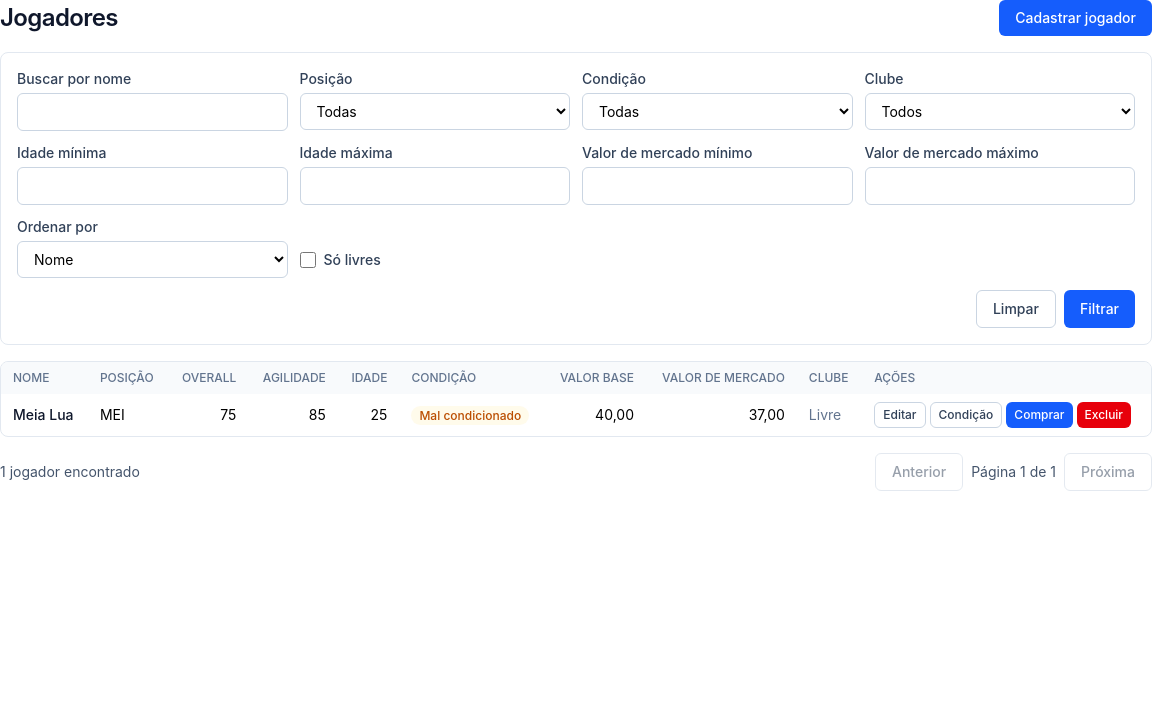
Test case: Compra de jogador livre › mostra o message da API quando a compra é recusada
Click the button "Comprar".
click(1039, 415)  # box [1006, 402, 1072, 428]
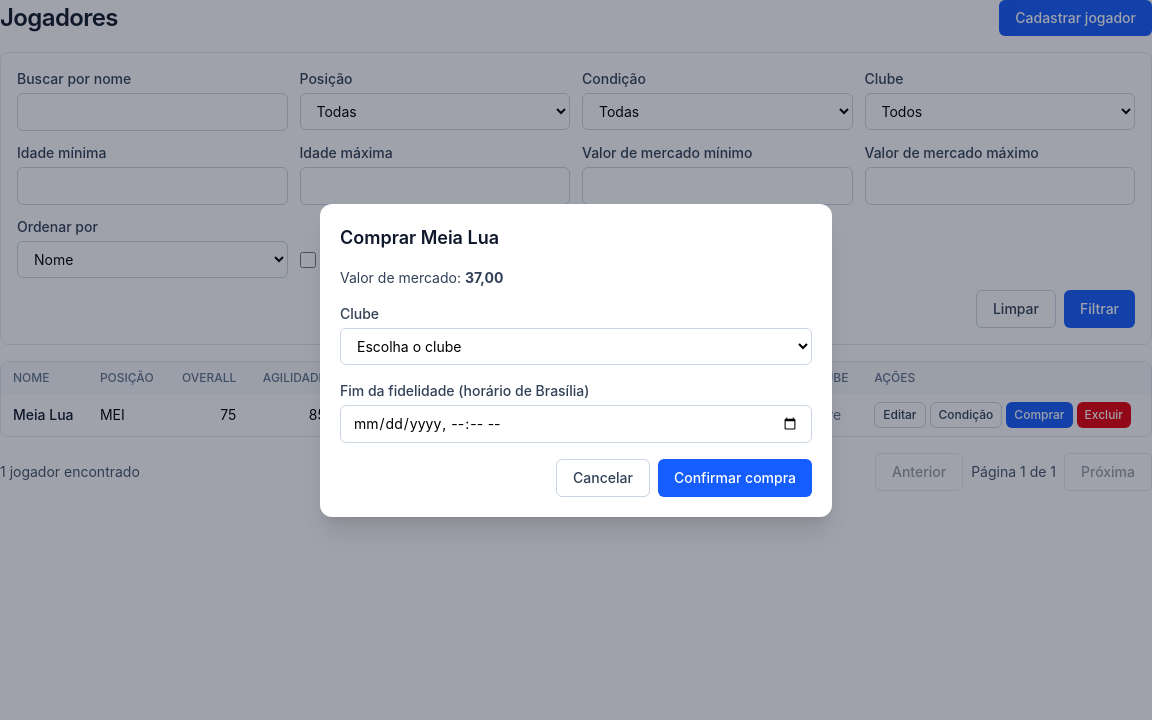
Select "AGU – Águias FC (caixa 300,00)" in the dropdown labelled "Clube" at (576, 346), box [340, 328, 812, 364]
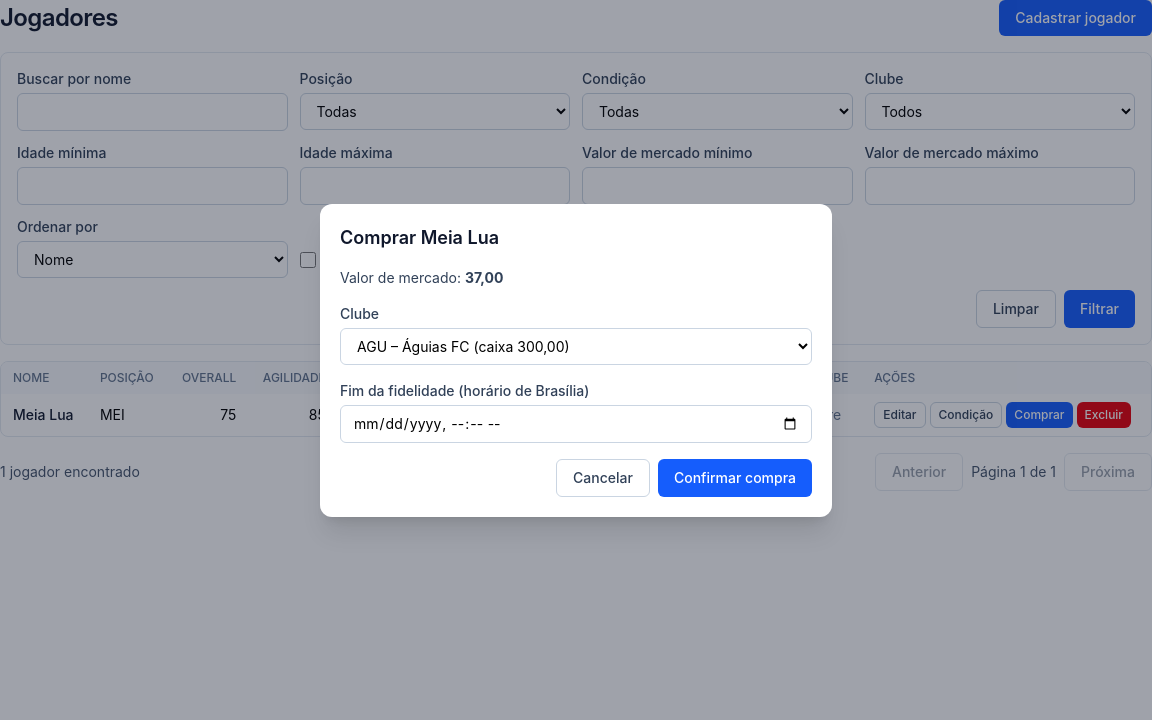
Type "2027-03-02T10:15" into the field labelled "Fim da fidelidade (horário de Brasília)".
click(576, 424); type("2027-03-02T10:15")  # box [340, 404, 812, 442]
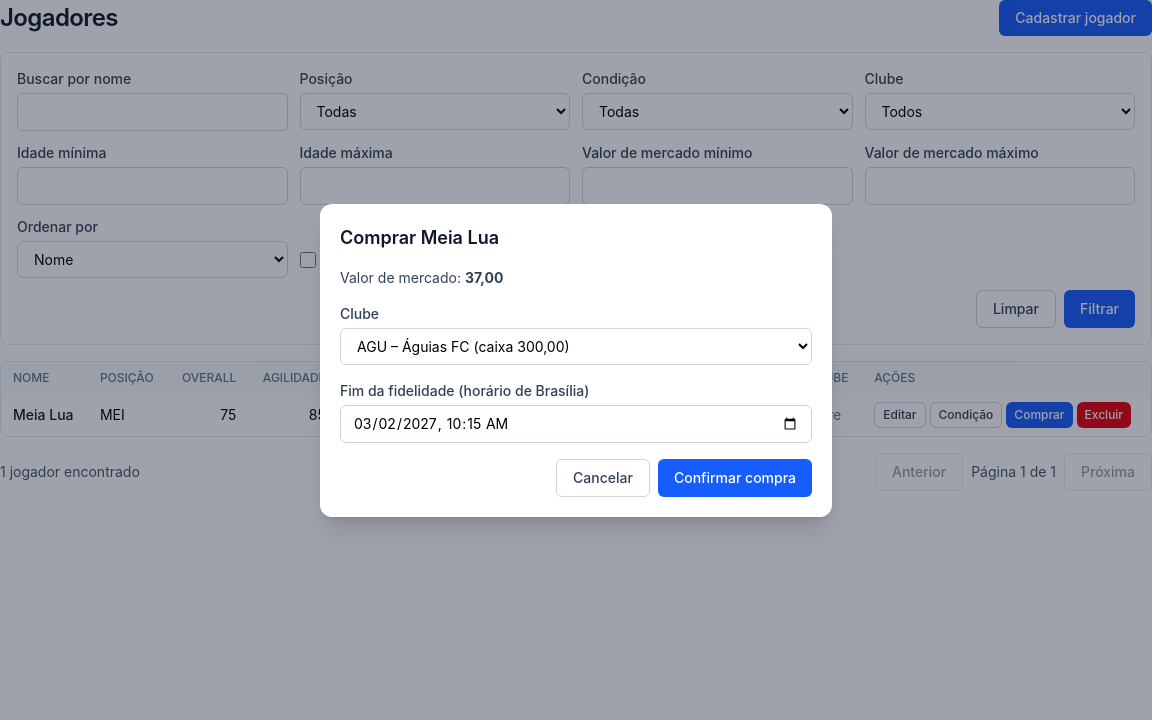
Click the button "Confirmar compra".
click(735, 478)  # box [658, 458, 812, 496]
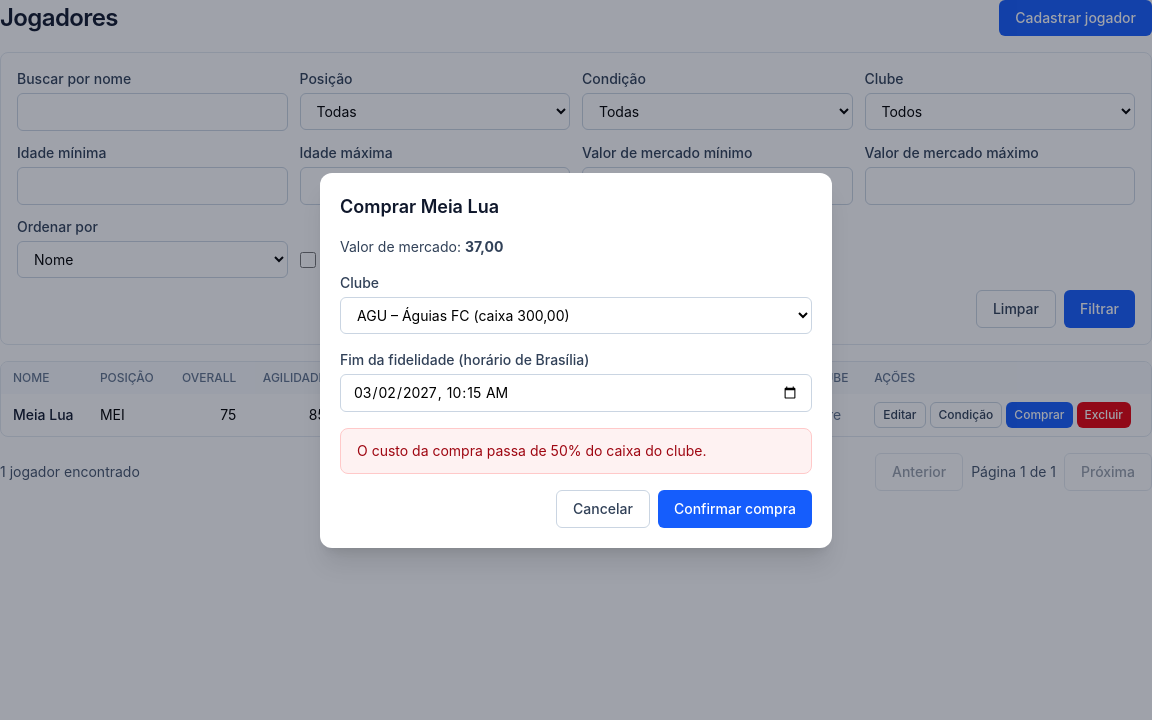
Expected: the message reads "O custo da compra passa de 50% do caixa do clube.", [357, 442, 706, 458]
